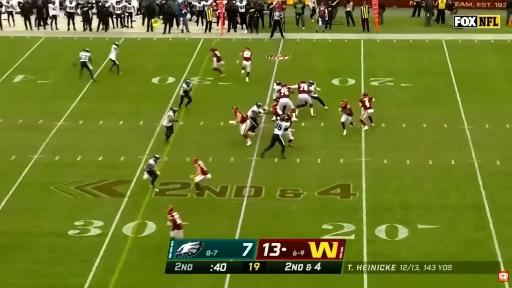Helmet: (166, 205, 174, 213), (255, 102, 263, 109), (170, 108, 177, 114), (341, 100, 347, 107), (279, 115, 286, 121), (185, 79, 191, 85), (153, 155, 160, 160), (362, 92, 368, 97), (193, 158, 198, 164), (210, 47, 216, 52), (309, 80, 315, 85), (232, 107, 238, 111), (276, 81, 282, 85), (113, 42, 118, 46), (282, 83, 287, 86), (84, 49, 89, 52), (245, 47, 249, 50), (302, 80, 305, 83)
Jersey: (168, 212, 183, 230), (274, 121, 290, 135), (359, 97, 374, 111), (195, 161, 208, 175), (163, 111, 175, 126), (340, 103, 353, 116), (235, 110, 247, 124), (145, 158, 157, 172), (247, 106, 261, 117), (278, 87, 290, 98), (181, 83, 192, 95), (79, 51, 91, 62), (193, 0, 206, 10), (271, 103, 280, 117), (236, 1, 247, 12), (212, 50, 222, 62), (110, 45, 118, 59), (243, 50, 252, 62), (274, 85, 281, 100), (66, 2, 76, 12), (298, 83, 308, 93), (49, 4, 58, 15), (114, 3, 123, 14), (126, 3, 135, 13), (6, 2, 14, 11), (309, 84, 315, 94)
Player: (261, 115, 290, 158), (232, 107, 251, 145), (278, 84, 297, 120), (192, 159, 211, 193), (297, 81, 315, 116), (247, 103, 267, 133), (143, 155, 159, 191), (360, 92, 374, 130), (167, 206, 183, 239), (309, 80, 327, 109), (79, 49, 95, 81), (163, 108, 178, 141), (340, 100, 354, 135), (210, 48, 225, 76), (241, 47, 252, 81), (109, 43, 121, 74), (179, 80, 192, 108), (113, 0, 124, 30), (283, 114, 293, 146), (125, 0, 135, 28), (274, 81, 282, 104), (274, 81, 282, 102)
